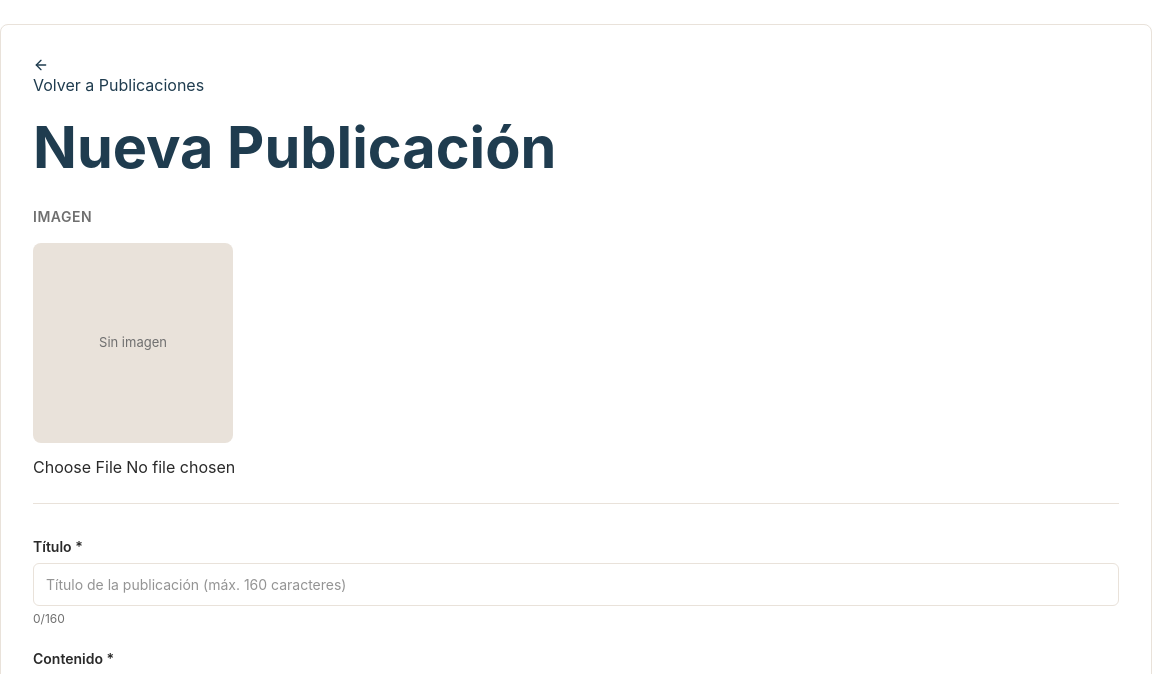
Test case: CreatePostForm › creates post successfully and shows success message
Type "Mi Título" into the field labelled "Título *" at (576, 585), box [33,563,1119,606]
(page scrolled)
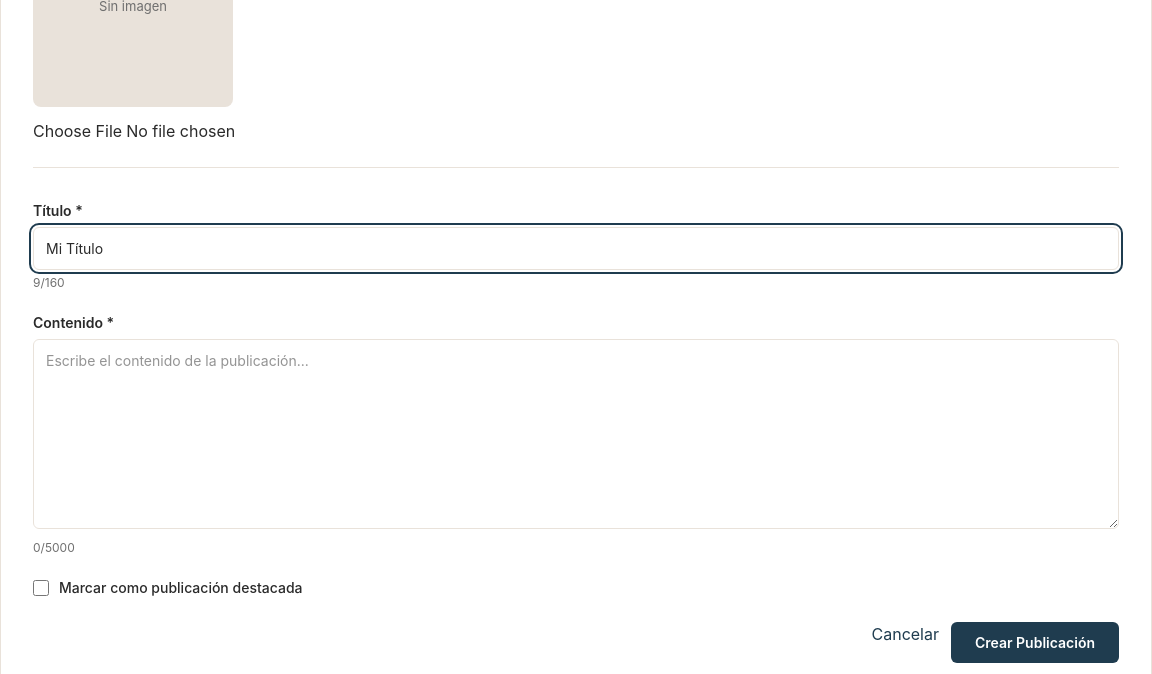
Type "Mi contenido del post" into the text box labelled "Contenido *" at (576, 434), box [33,339,1119,529]
(page scrolled)
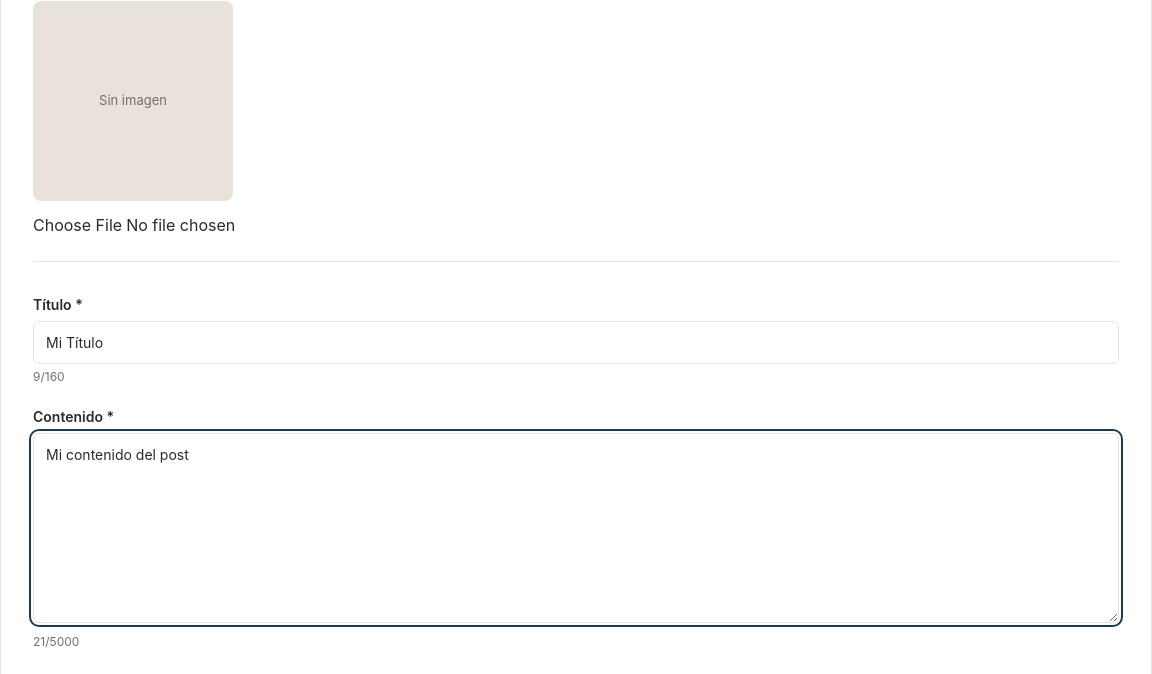
Submit the form named "crear publicación"
(page scrolled)
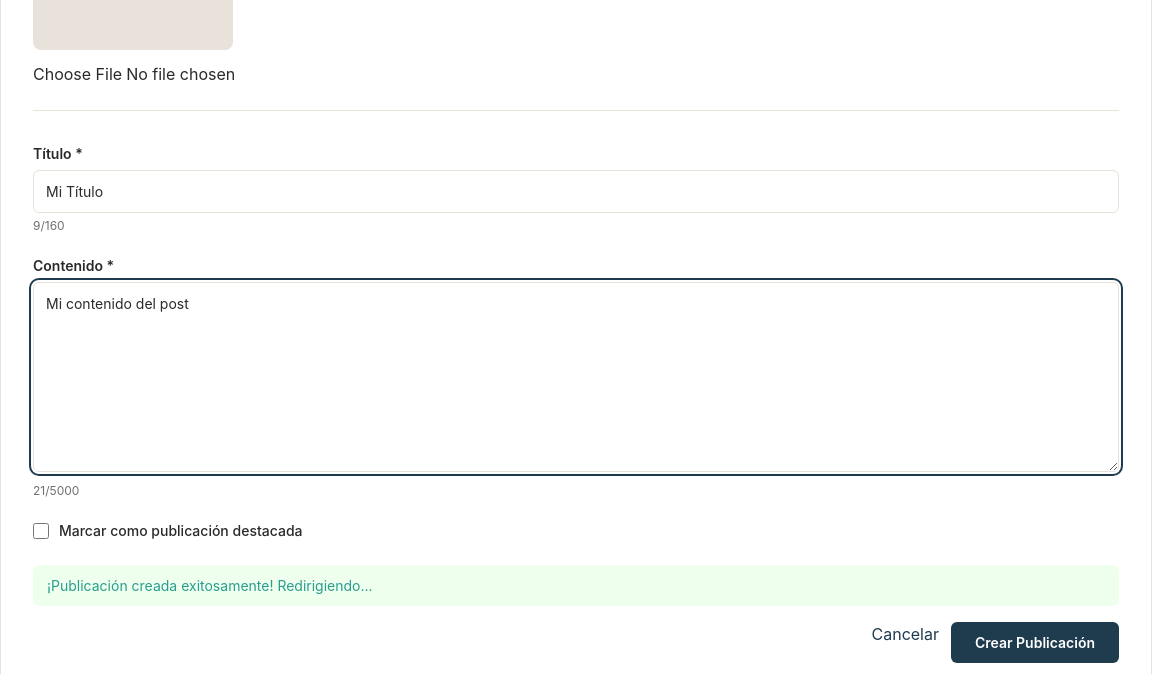
Check: the text "¡Publicación creada exitosamente! Redirigiendo..." is shown, box [33,565,1119,606]
